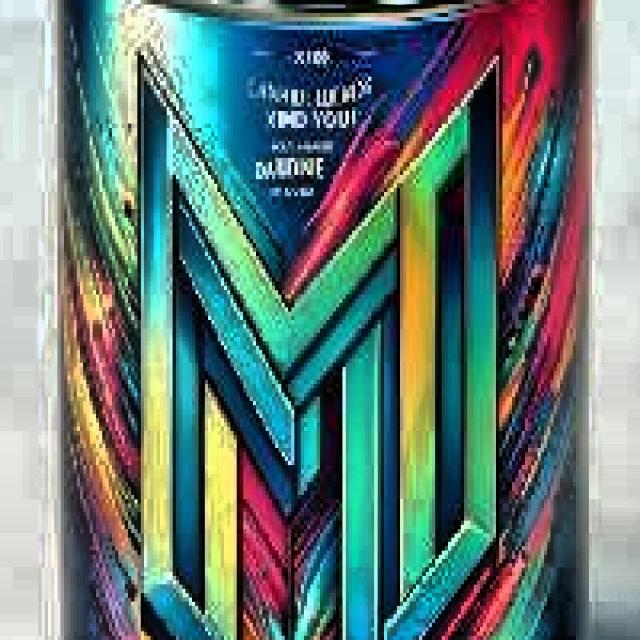metal: (32, 0, 618, 640)
